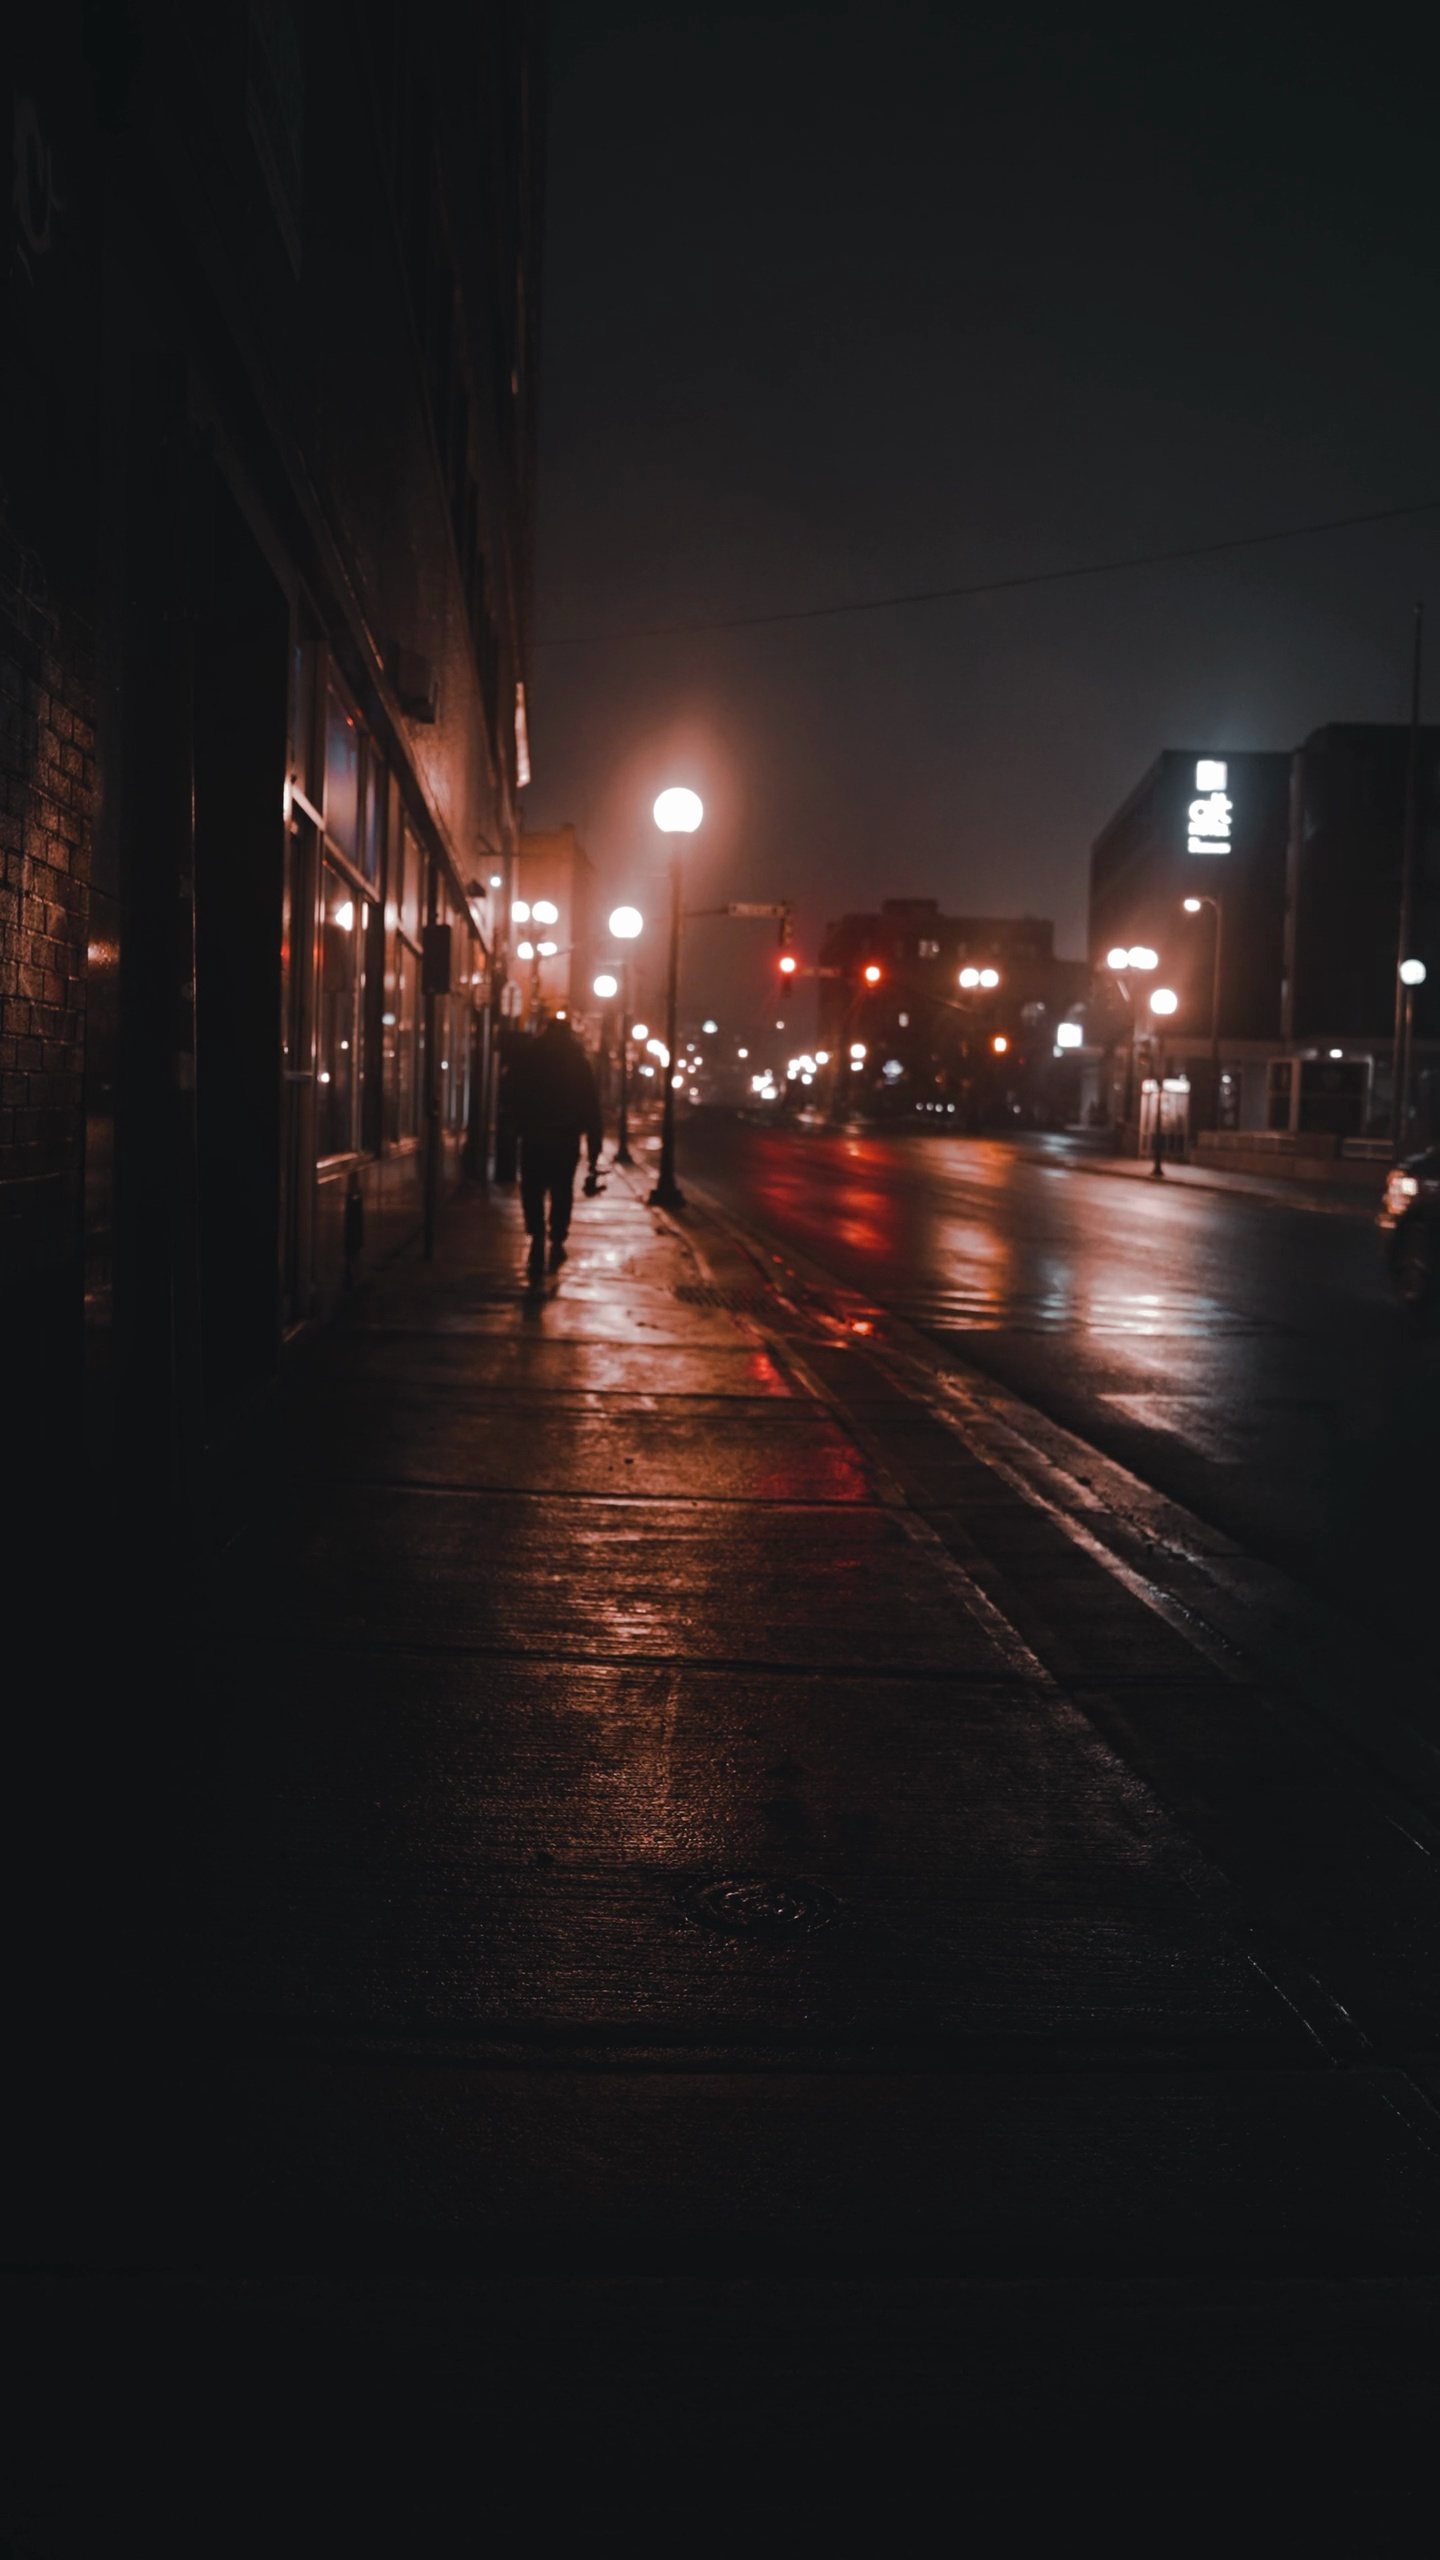person: (488, 1022, 630, 1274)
